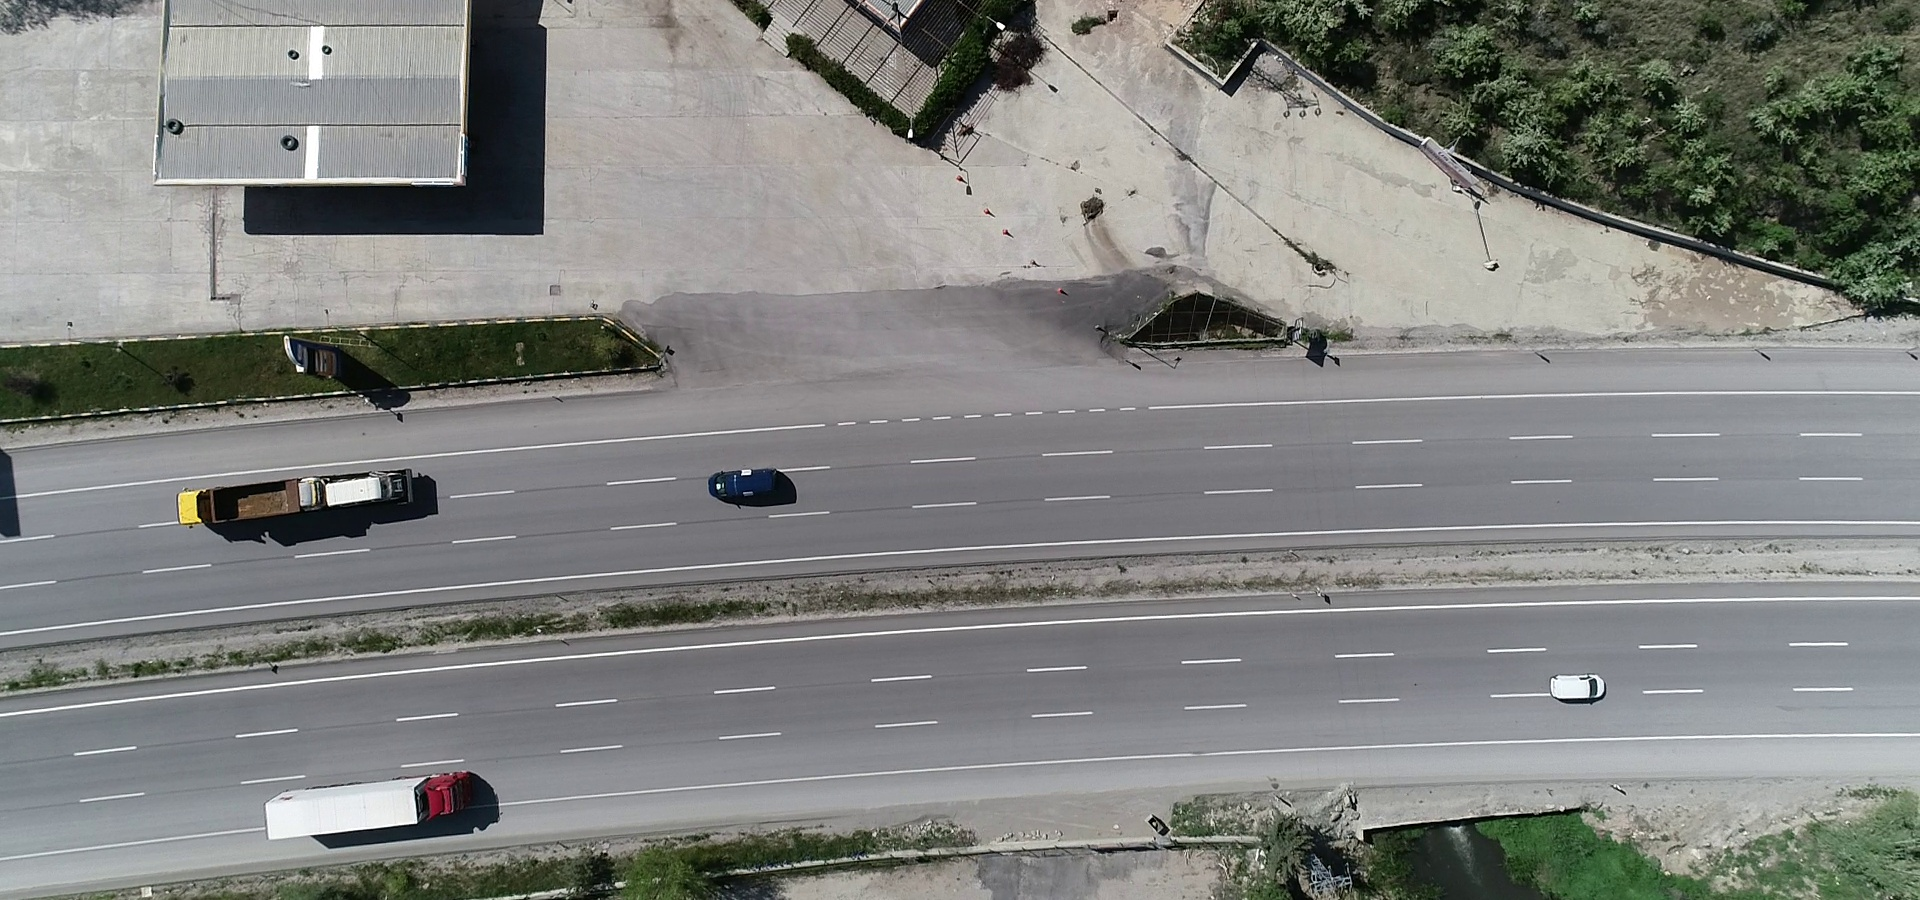arac: (260, 758, 482, 847), (167, 465, 429, 538), (705, 462, 801, 508), (1547, 669, 1616, 699)
